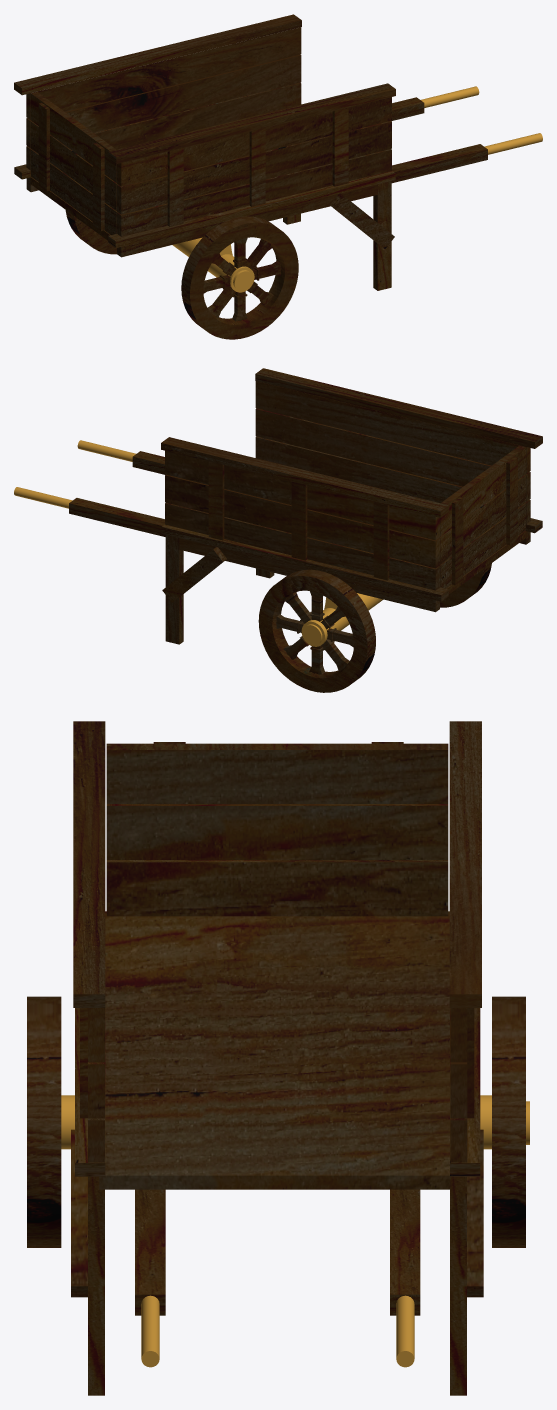
Rendered from CarrocaFinal.fbx.
The picture shows the model from 3 angles, top to bottom: view 1: azimuth 30°, elevation 25°; view 2: azimuth 150°, elevation 25°; view 3: azimuth 270°, elevation 25°; orthographic projection. The views are drawn at different scales.
Parts seen in each view (by area): view 1: pCube55; view 2: pCube55; view 3: pCube55.
Boxes of the visible parts, x1=… form: pCube55: x1=14, y1=14, x2=542, y2=339; pCube55: x1=14, y1=368, x2=542, y2=692; pCube55: x1=27, y1=721, x2=529, y2=1395.
Size of the model in its own units: 19.15 by 8.29 by 9.41.
3 materials, 2 textured.
